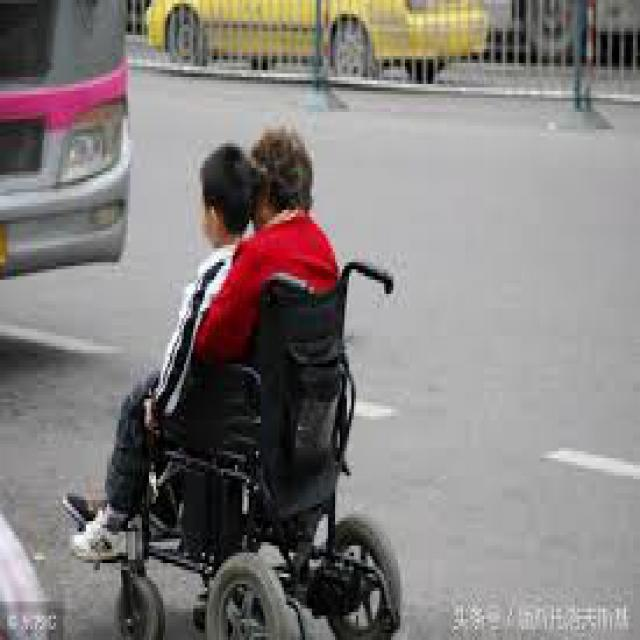wheelchairs: (74, 238, 433, 636)
